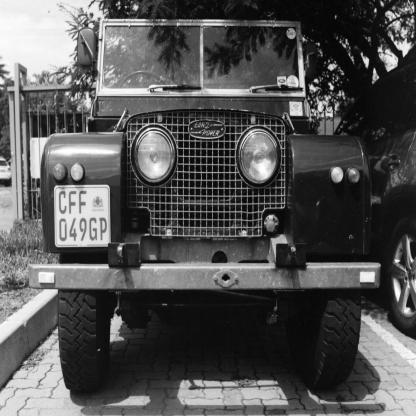Car: (29, 18, 382, 392), (334, 61, 416, 335)
